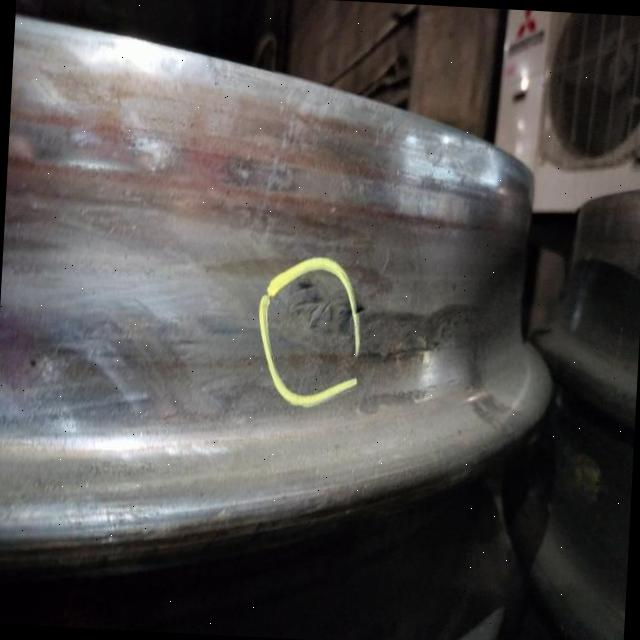Rollerpile: (285, 280, 355, 358)
